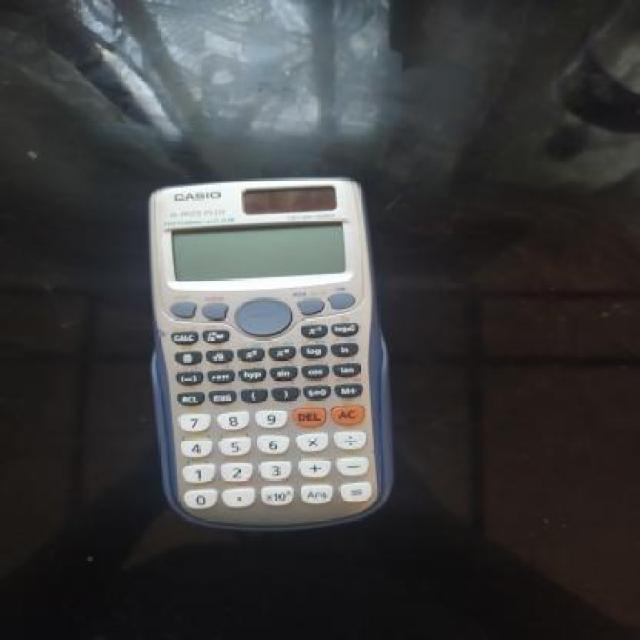Calculator: (136, 170, 412, 539)
